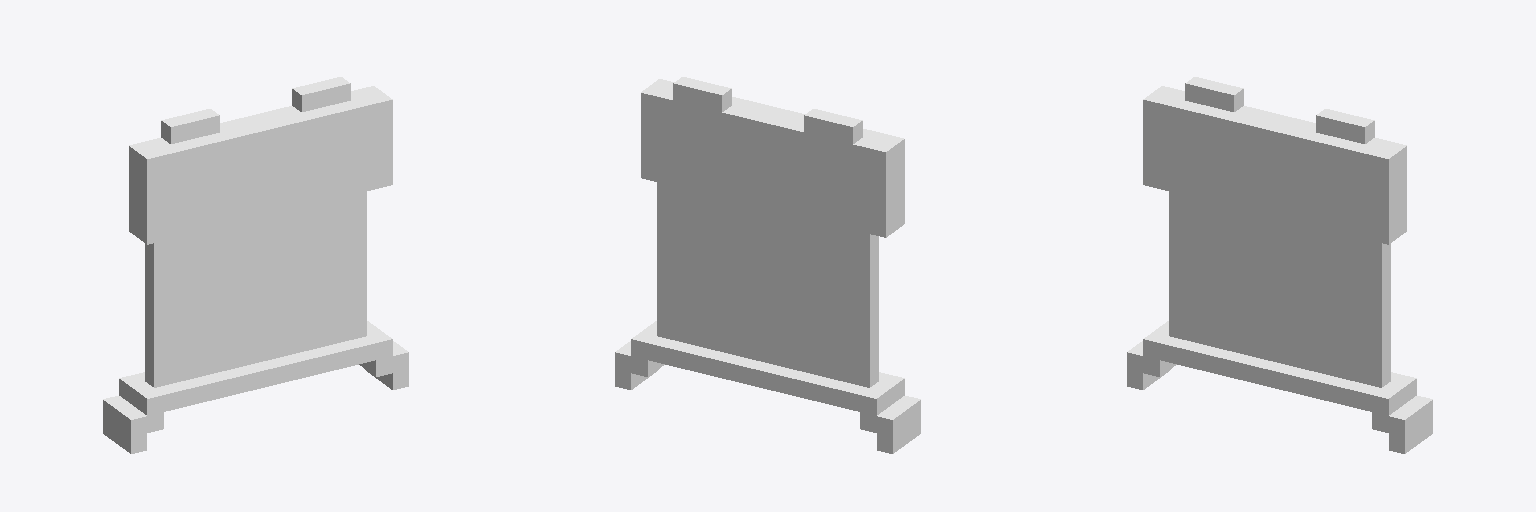
File: boardHi.obj
3 views of the same model, side by side, from view 1: azimuth 30°, elevation 25°; view 2: azimuth 150°, elevation 25°; view 3: azimuth 330°, elevation 25° (orthographic).
Visible parts, largest first — view 1: object 1; view 2: object 1; view 3: object 1.
Boxes of the visible parts, x1,y1,x2,y2 form: object 1: [103, 77, 408, 453]; object 1: [615, 77, 920, 453]; object 1: [1127, 77, 1432, 453].
Size of the model in its own units: 1.7 by 1.8 by 0.3.